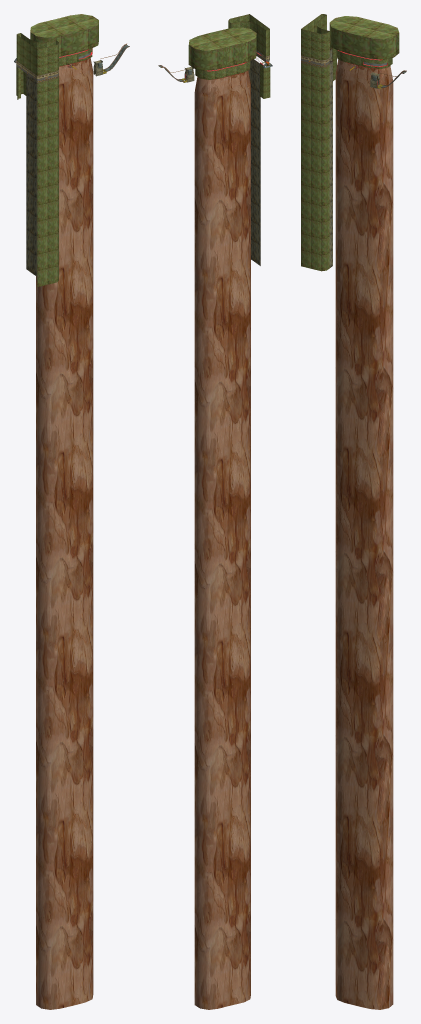
File: Bullet Station 17.fbx
3 renders of one model, left to right at view 1: azimuth 30°, elevation 25°; view 2: azimuth 210°, elevation 25°; view 3: azimuth 330°, elevation 25°, orthographic.
Parts seen in each view (by area): view 1: STG08_ON_21; view 2: STG08_ON_21; view 3: STG08_ON_21.
Part boxes in pixels (left/top/right/bottom): STG08_ON_21: left=14, top=14, right=129, bottom=1009; STG08_ON_21: left=158, top=14, right=272, bottom=1009; STG08_ON_21: left=301, top=14, right=406, bottom=1009.
Size of the model in its own units: 289000 by 2748025 by 141218.
